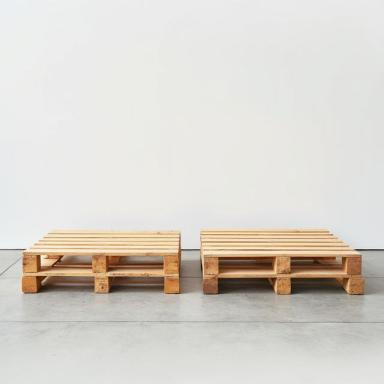pallet: (200, 244, 364, 295), (201, 228, 362, 276), (22, 230, 181, 274), (22, 272, 180, 294)
